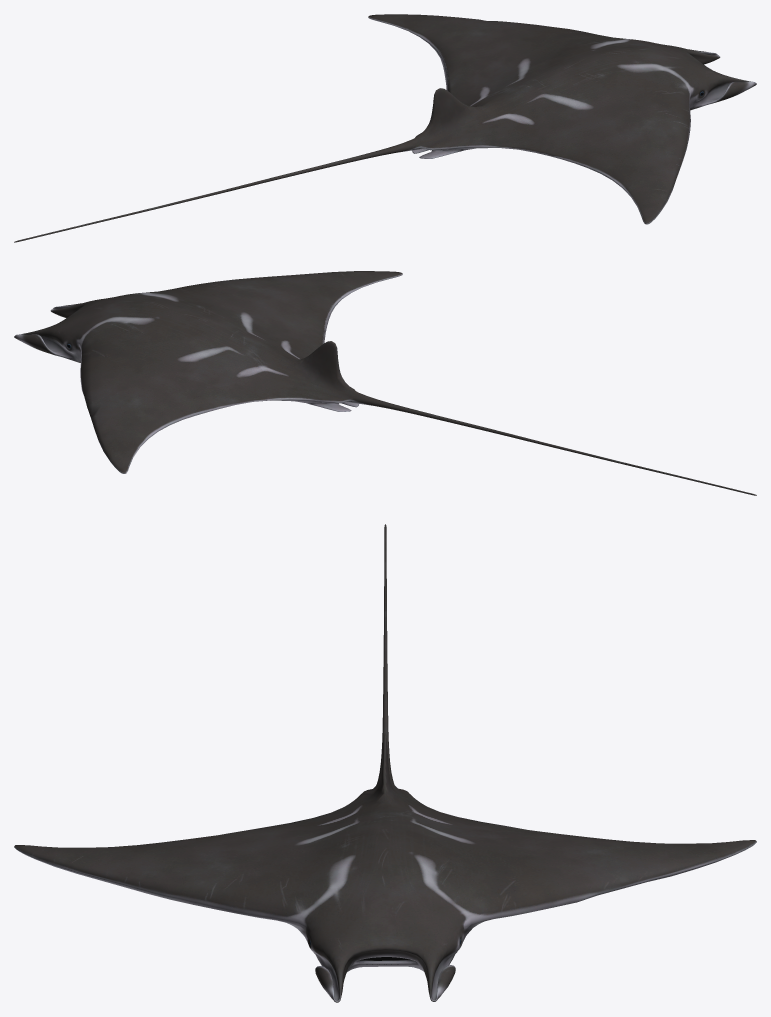
Rendered from ralladiablo.glb.
3 renders of one model, top to bottom at view 1: azimuth 30°, elevation 25°; view 2: azimuth 150°, elevation 25°; view 3: azimuth 270°, elevation 25°, orthographic. The views are drawn at different scales.
Visible parts, largest first — view 1: DevilRay; view 2: DevilRay; view 3: DevilRay.
Part boxes in pixels (box(x1,y1,x2,y2)): DevilRay: box(14, 14, 756, 242); DevilRay: box(14, 271, 756, 495); DevilRay: box(14, 524, 756, 1002).
Size of the model in its own units: 14.61 by 1.35 by 9.74.
1 material, 1 textured.
